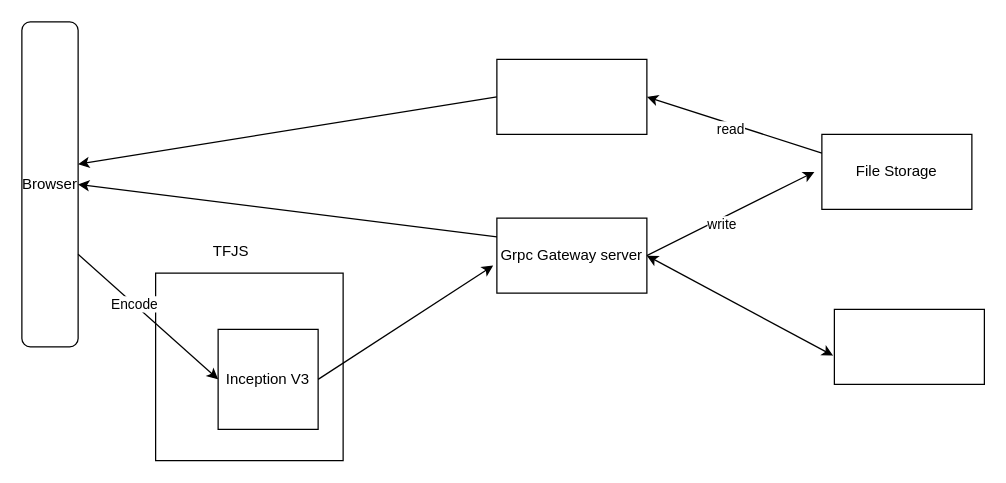
Some shapes in this 1006 by 483 pixel diagram are drawn without their labels. The box of each missing label's shape, as (x1, y1, x2, y2) in pixels:
Milvus Vector Db: (833, 308, 984, 384)
Nginx: (496, 58, 647, 134)
